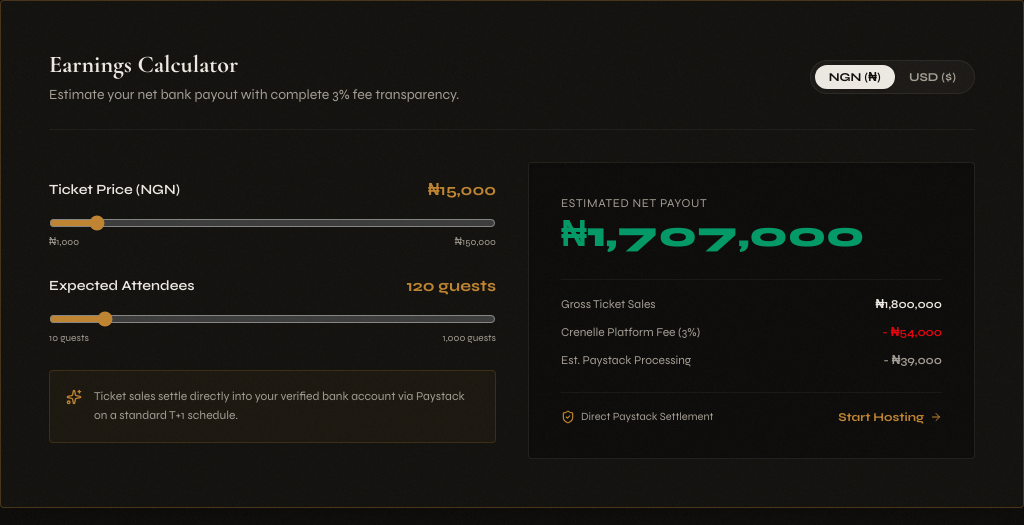
Scenario: Marketing & Trust Pages › PricingCalculator Component › switches currency between NGN and USD
Click the button "USD ($)".
click(932, 77)  # box [895,65,970,89]
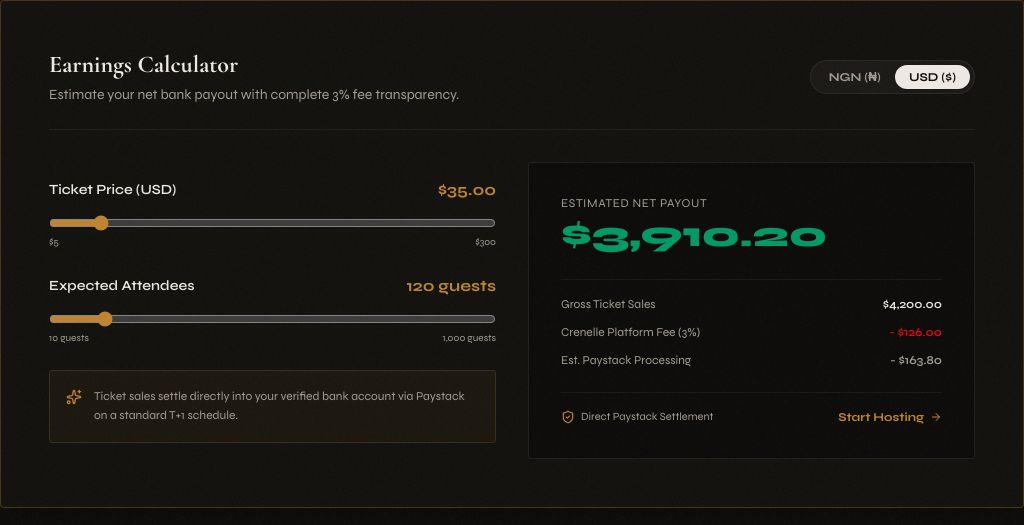
Expected: the text "Ticket Price (USD)" is shown, [49,180,176,200]
